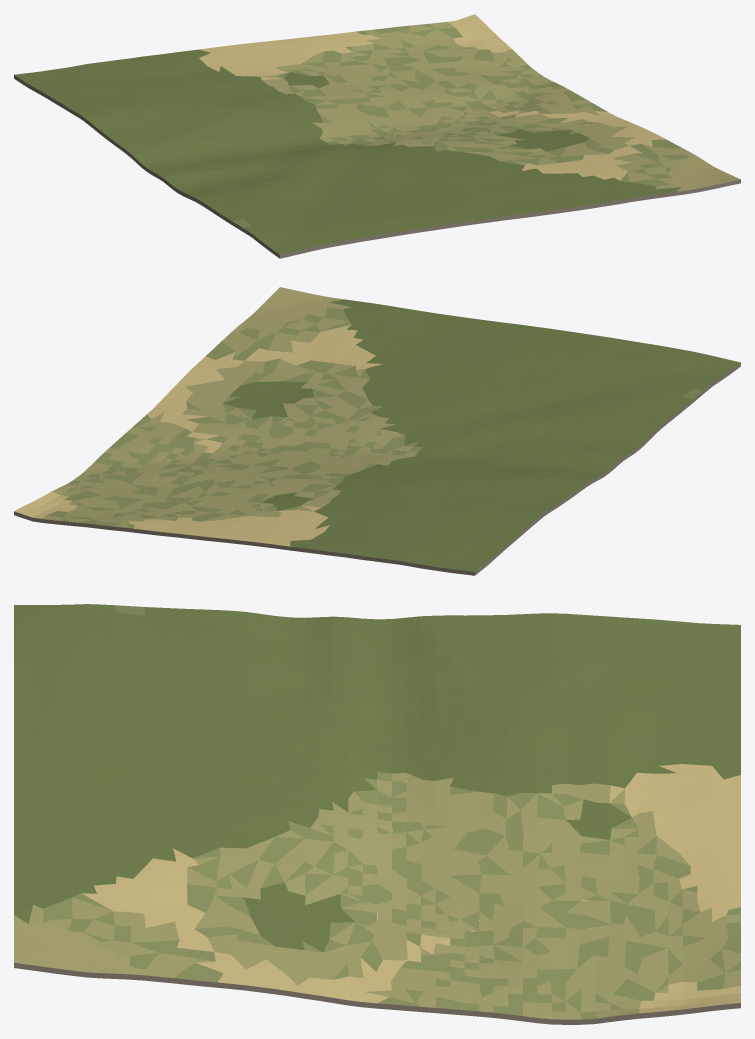
File: parca_+12_-4-uzak.glb
3 renders of one model, top to bottom at view 1: azimuth 30°, elevation 25°; view 2: azimuth 150°, elevation 25°; view 3: azimuth 270°, elevation 25°, orthographic. The views are drawn at different scales.
Parts seen in each view (by area): view 1: parca_+12_-4_arazi_uzak; view 2: parca_+12_-4_arazi_uzak; view 3: parca_+12_-4_arazi_uzak.
Part boxes in pixels (bbox=[...]): parca_+12_-4_arazi_uzak: bbox=[14, 14, 740, 258]; parca_+12_-4_arazi_uzak: bbox=[14, 287, 740, 575]; parca_+12_-4_arazi_uzak: bbox=[14, 604, 740, 1024].
Size of the model in its own units: 1000 by 172 by 1000.
